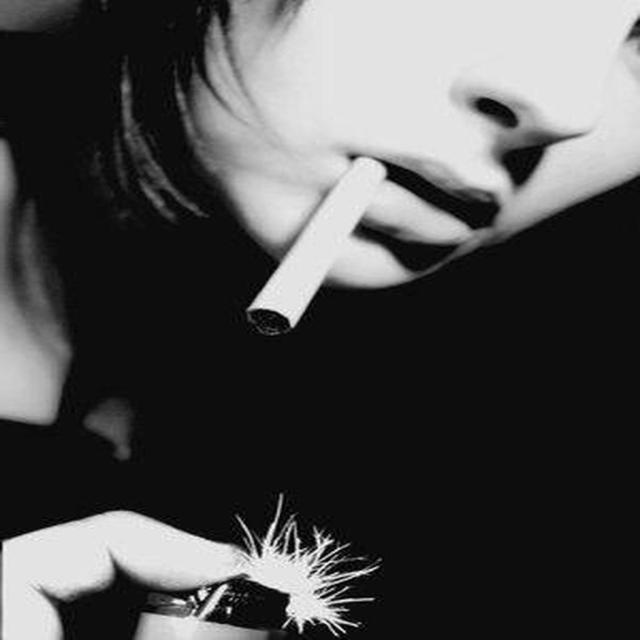smoking: (108, 0, 640, 370)
